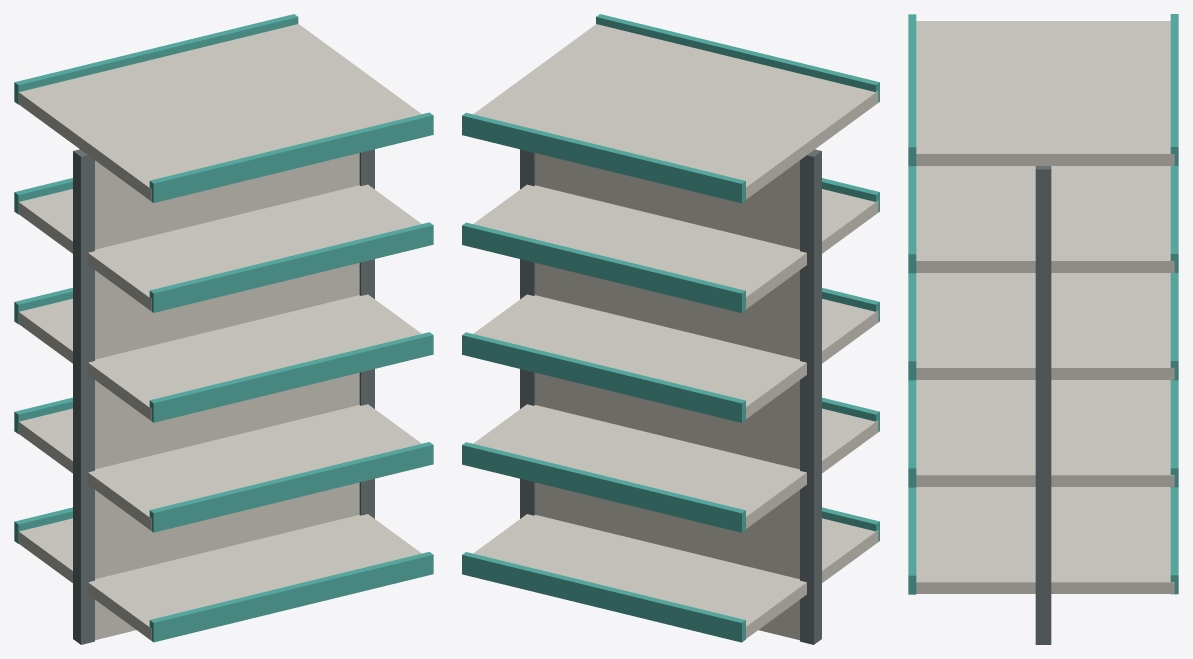
Rendered from supermarket-operations-double-sided-gondola-1e4ac390__26744.glb.
3 renders of one model, left to right at view 1: azimuth 30°, elevation 25°; view 2: azimuth 150°, elevation 25°; view 3: azimuth 270°, elevation 25°, orthographic. The views are drawn at different scales.
Visible parts, largest first — view 1: double-sided-gondola; view 2: double-sided-gondola; view 3: double-sided-gondola.
Boxes of the visible parts, bbox=[...] form: double-sided-gondola: bbox=[14, 14, 433, 644]; double-sided-gondola: bbox=[462, 14, 879, 644]; double-sided-gondola: bbox=[908, 14, 1178, 644].
Size of the model in its own units: 1.26 by 2.08 by 1.03.
